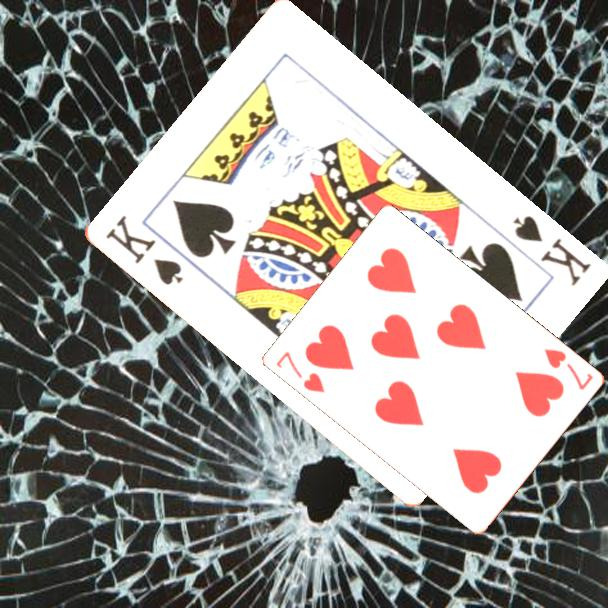h07: (540, 345, 596, 393), (272, 348, 327, 396)
s13: (508, 211, 594, 289), (101, 211, 186, 289)
